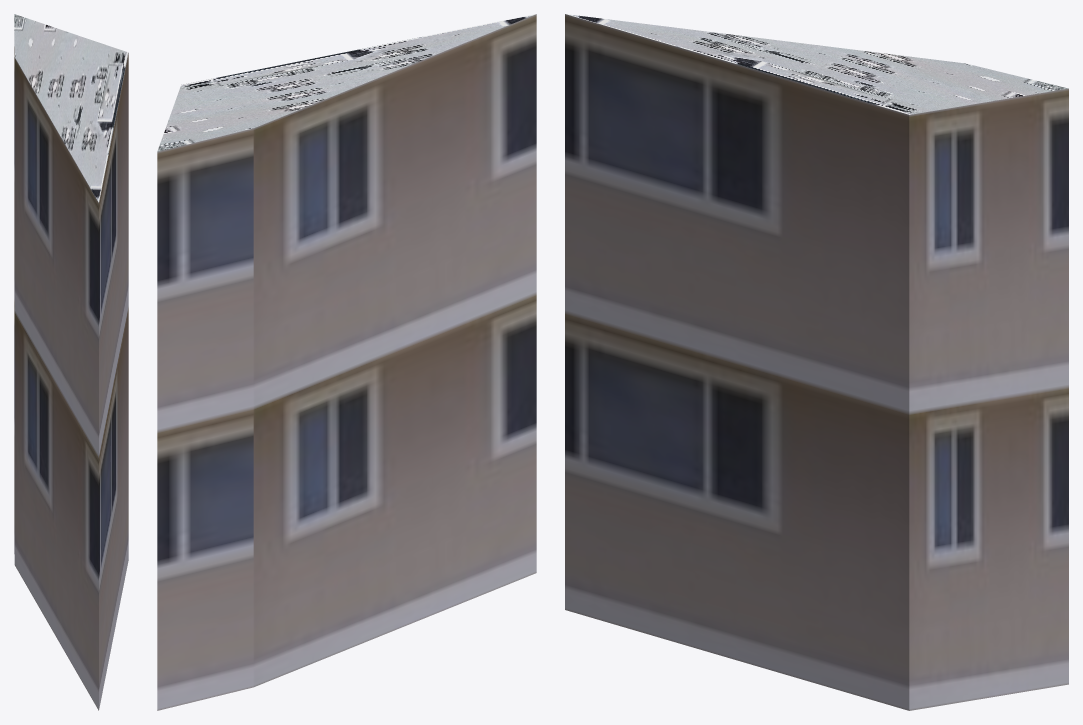
The model's file is ResTex__4487.fbx.
3 views of the same model, side by side, from view 1: azimuth 30°, elevation 25°; view 2: azimuth 150°, elevation 25°; view 3: azimuth 270°, elevation 25° (orthographic). The views are drawn at different scales.
Parts seen in each view (by area): view 1: CityEngineMaterial_21_m, CityEngineMaterial_4_m; view 2: CityEngineMaterial_21_m, CityEngineMaterial_4_m; view 3: CityEngineMaterial_21_m, CityEngineMaterial_4_m.
Part boxes in pixels (bbox=[...]): CityEngineMaterial_21_m: bbox=[14, 46, 128, 710]; CityEngineMaterial_4_m: bbox=[14, 14, 128, 202]; CityEngineMaterial_21_m: bbox=[157, 14, 536, 710]; CityEngineMaterial_4_m: bbox=[157, 14, 535, 151]; CityEngineMaterial_21_m: bbox=[565, 14, 1068, 710]; CityEngineMaterial_4_m: bbox=[566, 14, 1068, 114].
Size of the model in its own units: 2.18 by 6 by 4.6.
Materials: 2 (2 with a texture image).
